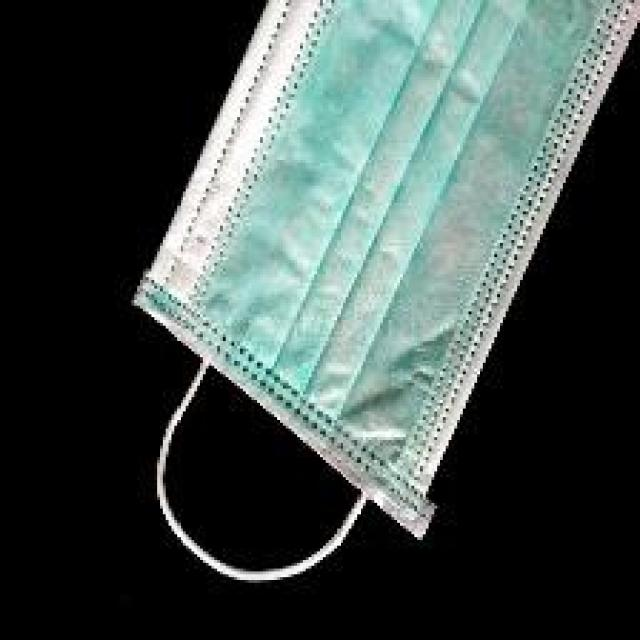Mask: (140, 0, 640, 597)
